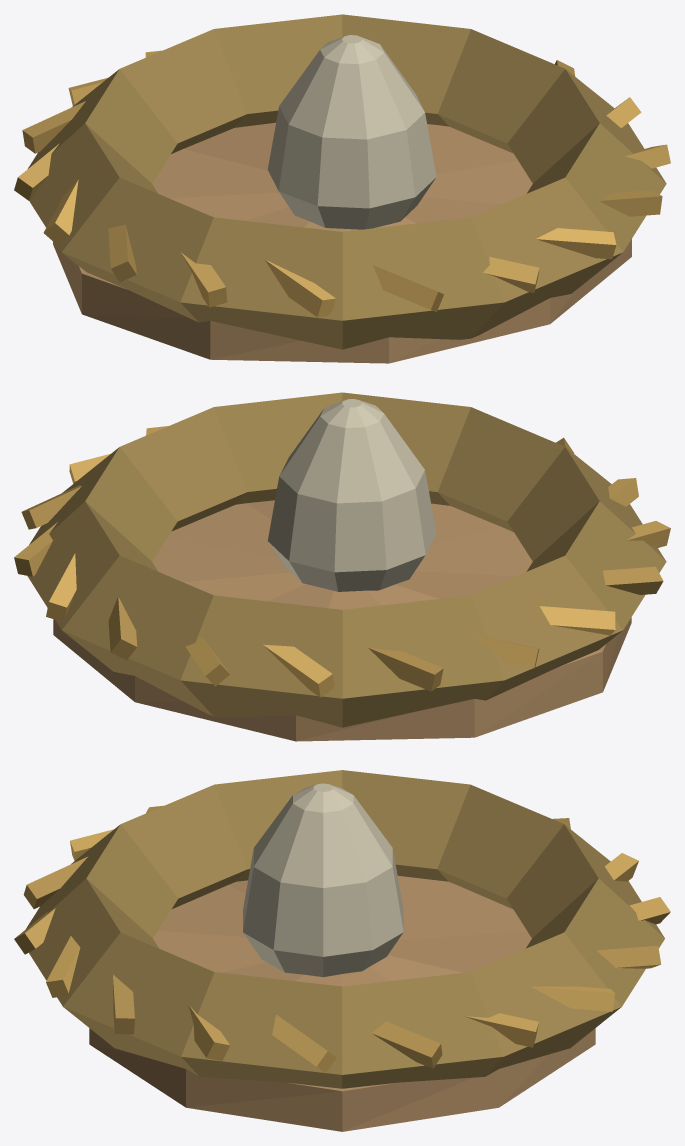
Rendered from egg_nest.glb.
3 renders of one model, top to bottom at view 1: azimuth 30°, elevation 25°; view 2: azimuth 150°, elevation 25°; view 3: azimuth 270°, elevation 25°, orthographic.
Parts seen in each view (by area): view 1: geometry, egg; view 2: geometry, egg; view 3: geometry, egg.
Part boxes in pixels (x1,y1,x2,y2): geometry: (14, 14, 670, 363); egg: (267, 35, 436, 229); geometry: (14, 392, 670, 741); egg: (267, 399, 436, 591); geometry: (14, 770, 670, 1131); egg: (243, 783, 403, 977).
Bounding box in the file's own units: 0.5135 × 0.205 × 0.513.
